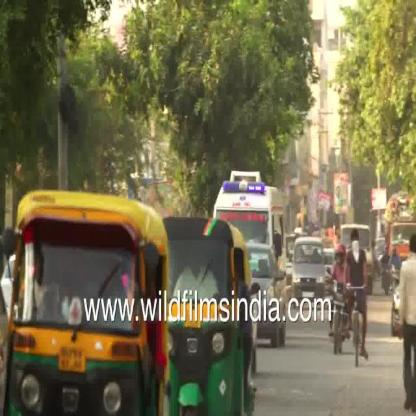priority: (198, 159, 292, 219), (260, 186, 288, 356)
